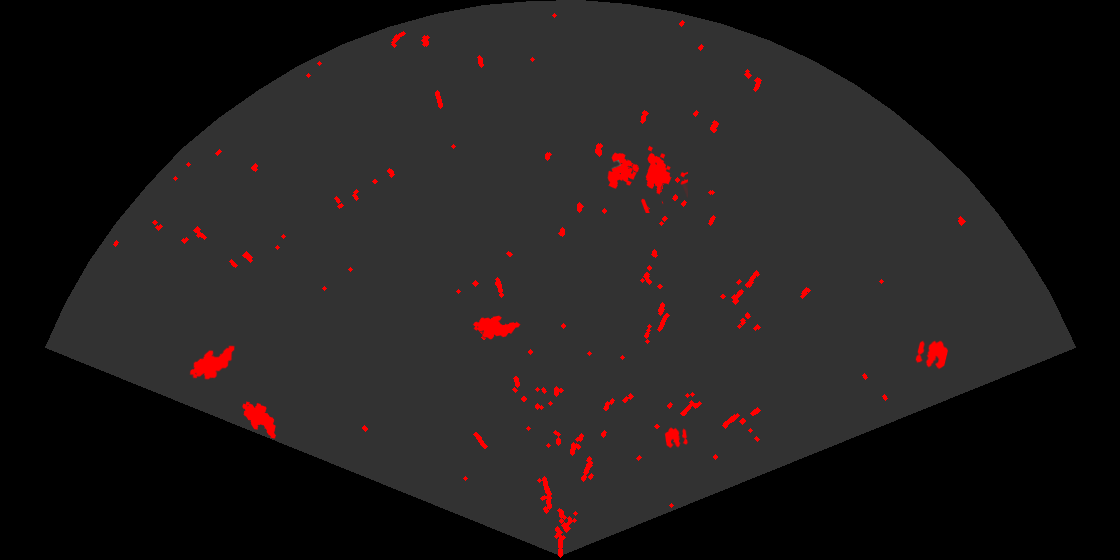AUV: (188, 344, 236, 381), (241, 400, 278, 440), (471, 314, 522, 341)
ball: (914, 339, 950, 371), (663, 426, 690, 450)
cage: (606, 144, 688, 213)
